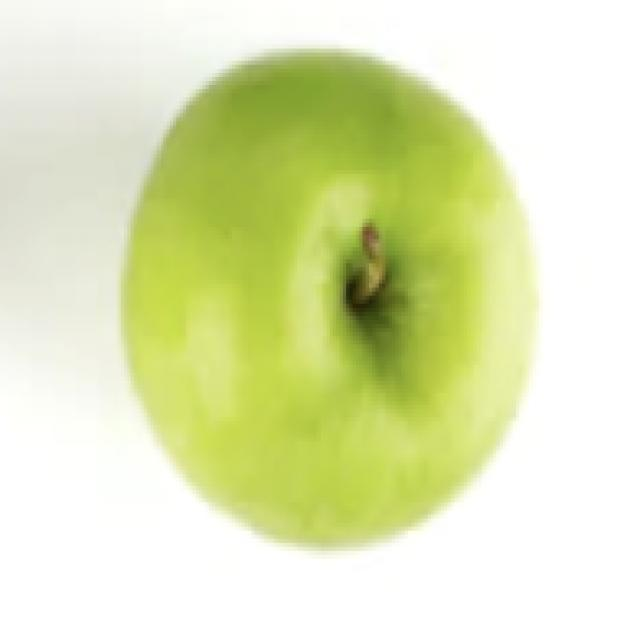Fresh Apple: (145, 80, 525, 535)
